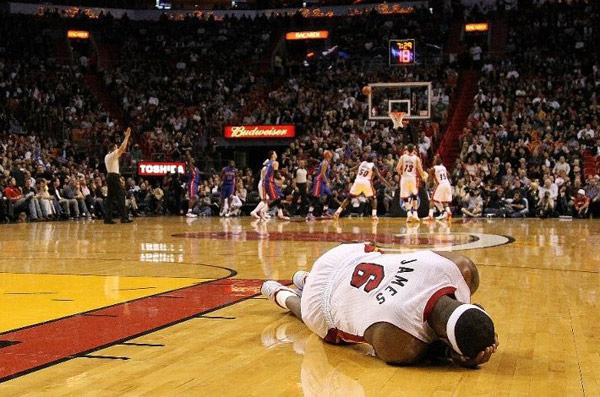10+: (1, 3, 600, 233)
down: (259, 235, 502, 374)
